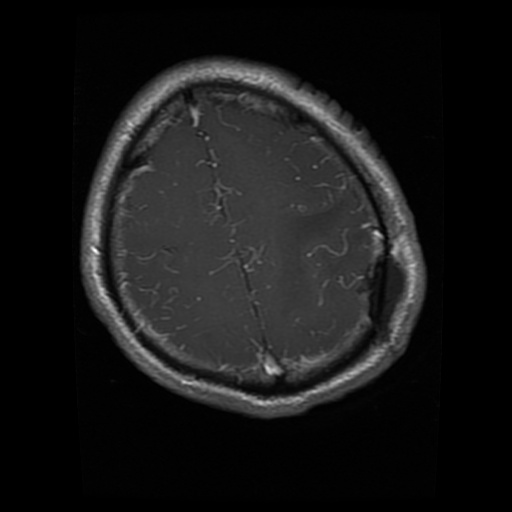glioma: (361, 253, 407, 337)
